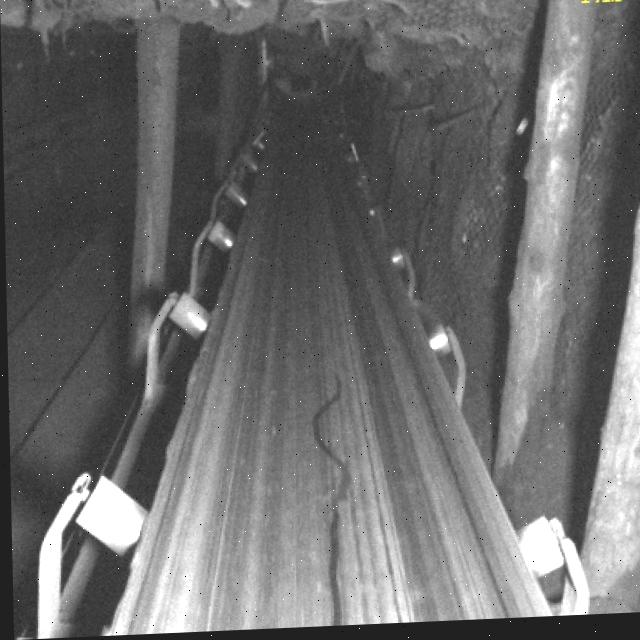bolt: (314, 372, 355, 629)
